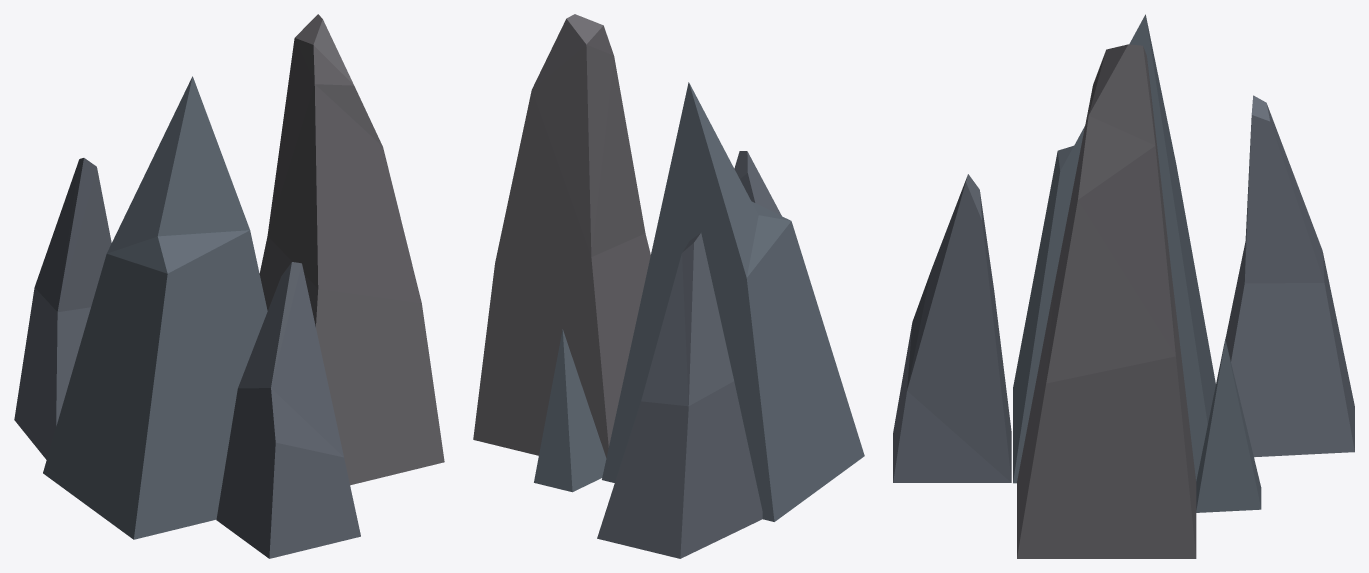
Rendered from Rocks_Sharp_s_02.fbx.
The picture shows the model from 3 angles, left to right: view 1: azimuth 30°, elevation 25°; view 2: azimuth 150°, elevation 25°; view 3: azimuth 270°, elevation 25°; orthographic projection. The views are drawn at different scales.
Visible parts, largest first — view 1: Rocks_Sharp_s_02; view 2: Rocks_Sharp_s_02; view 3: Rocks_Sharp_s_02.
Part boxes in pixels (x1,y1,x2,y2): Rocks_Sharp_s_02: (14, 14, 444, 558); Rocks_Sharp_s_02: (473, 14, 864, 558); Rocks_Sharp_s_02: (893, 14, 1354, 558).
Bounding box in the file's own units: 46.74 × 60.63 × 53.39.
